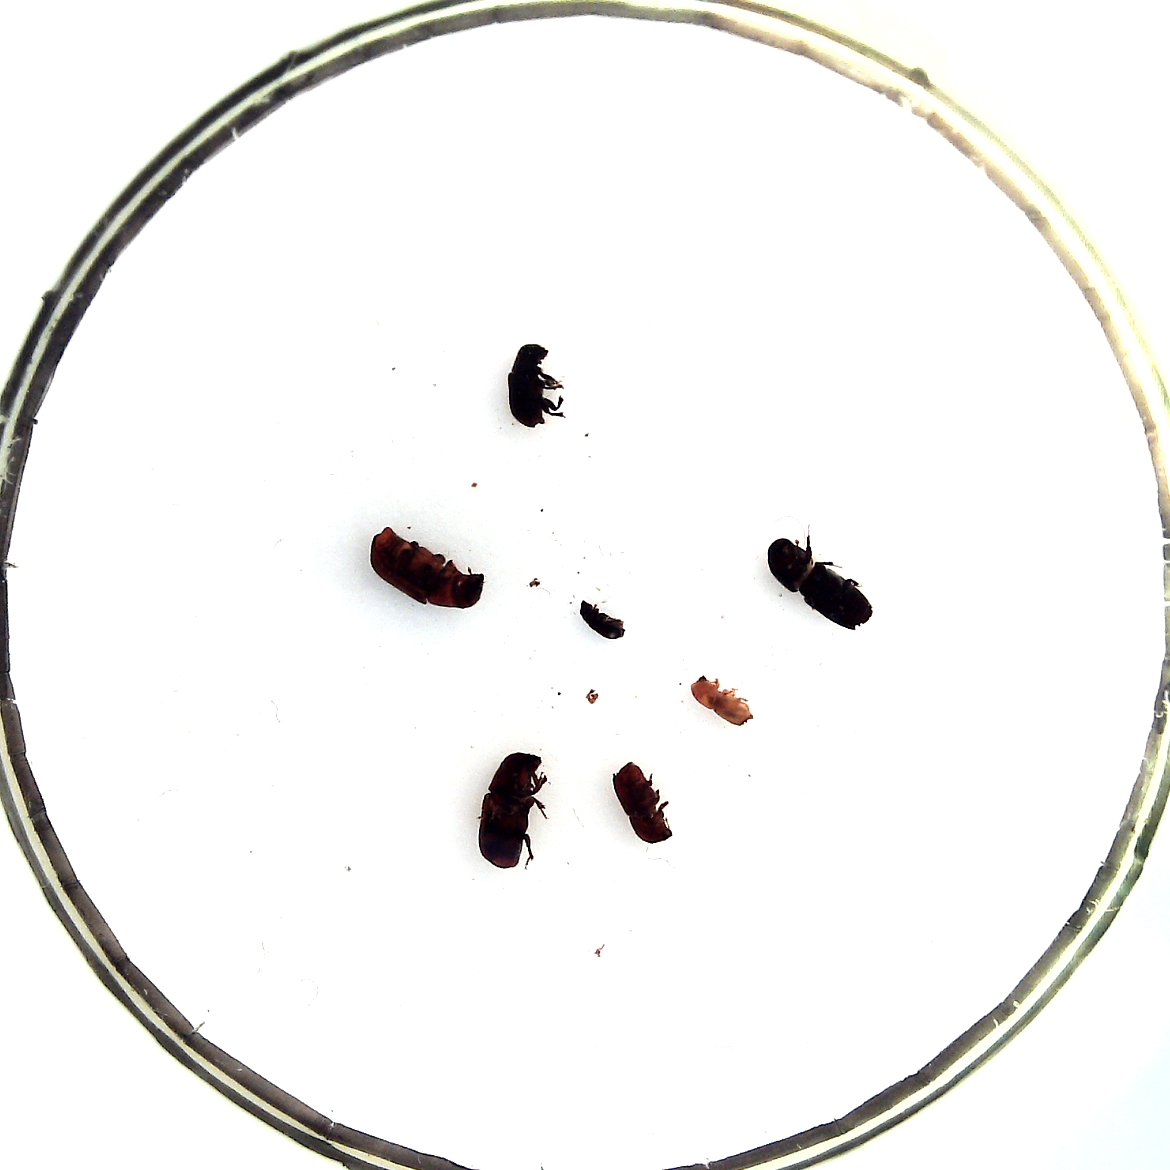Boerner: (768, 538, 873, 629)
Leconte: (370, 526, 485, 611), (479, 752, 542, 869)
acuminatus: (580, 601, 625, 639)
armandi: (507, 344, 549, 427)
coleoptera: (691, 676, 753, 726)
linnaeus: (612, 761, 673, 844)
